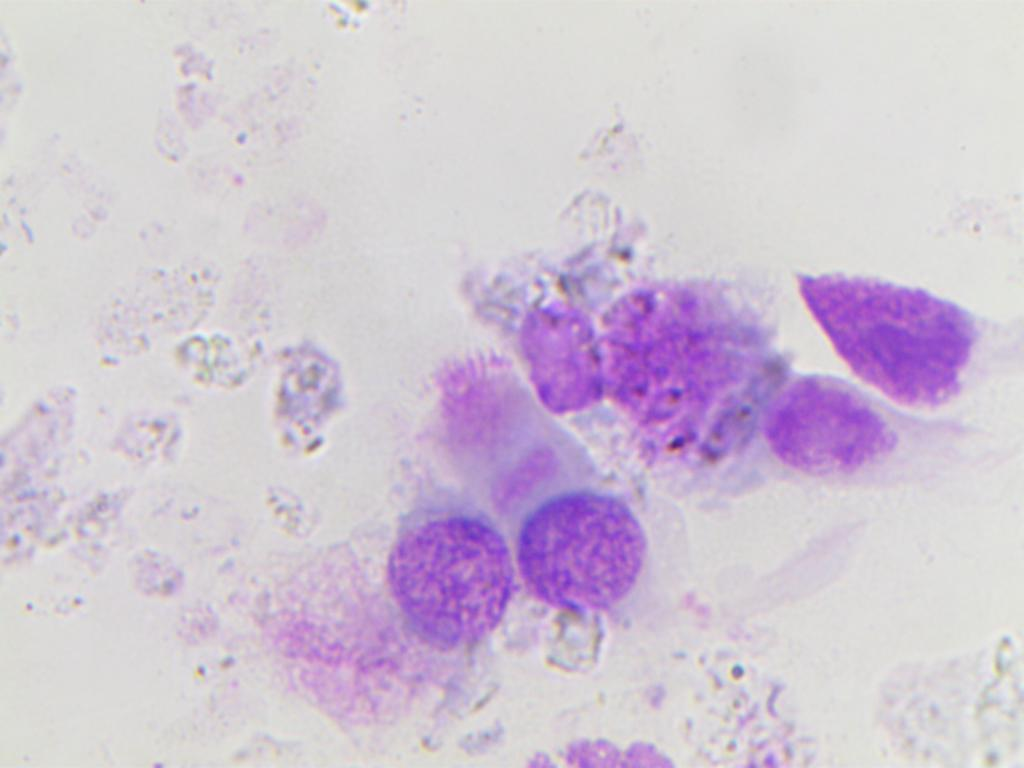artifact: (0, 361, 192, 596), (83, 266, 264, 396), (700, 608, 816, 751), (254, 314, 352, 467)
ciliated: (423, 346, 651, 618)
epithelial: (329, 503, 518, 711), (794, 247, 999, 408), (732, 375, 882, 499), (508, 273, 618, 427)
